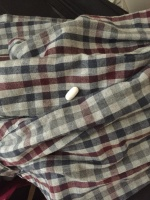Centik Buskopan: (64, 86, 80, 102)
